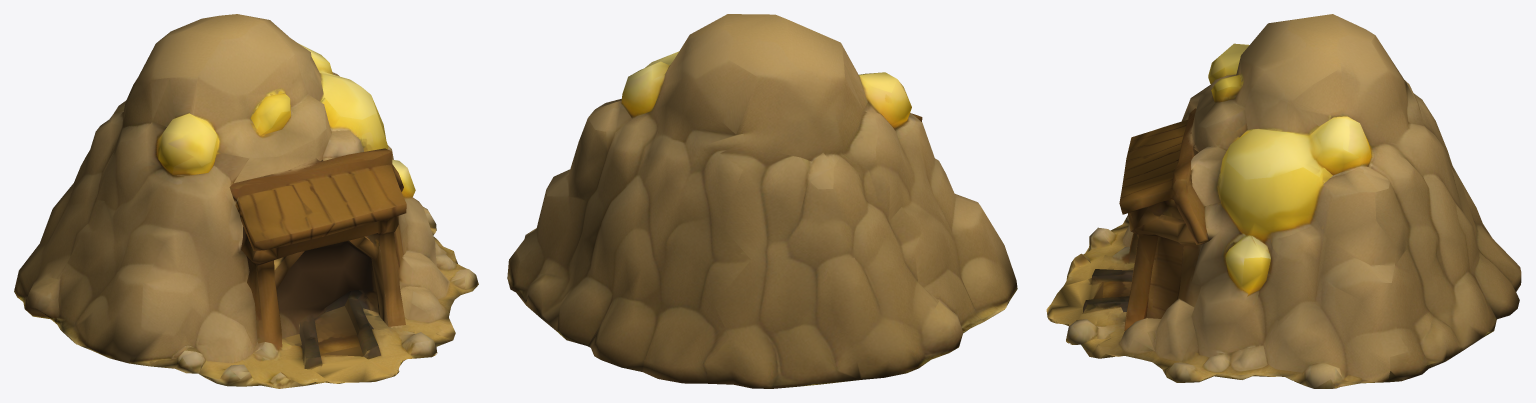
File: goldmine.glb
3 views of the same model, side by side, from view 1: azimuth 30°, elevation 25°; view 2: azimuth 150°, elevation 25°; view 3: azimuth 270°, elevation 25° (orthographic). The views are drawn at different scales.
Parts seen in each view (by area): view 1: tmp4q_lbak8.ply; view 2: tmp4q_lbak8.ply; view 3: tmp4q_lbak8.ply.
Boxes of the visible parts, x1,y1,x2,y2 form: tmp4q_lbak8.ply: [14, 14, 478, 388]; tmp4q_lbak8.ply: [507, 14, 1017, 388]; tmp4q_lbak8.ply: [1046, 14, 1521, 388].
Size of the model in its own units: 1.95 by 1.24 by 1.95.
1 material, 1 textured.
